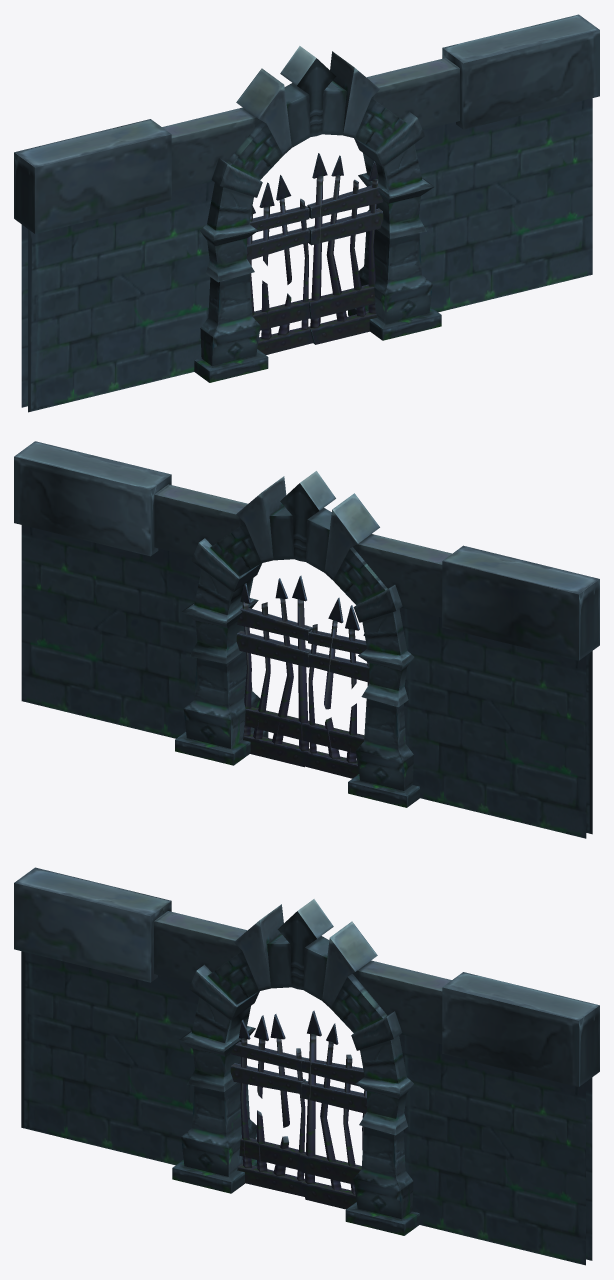
Rendered from jfdx_weiqiang_02.FBX.
The picture shows the model from 3 angles, top to bottom: view 1: azimuth 30°, elevation 25°; view 2: azimuth 150°, elevation 25°; view 3: azimuth 330°, elevation 25°; orthographic projection.
Parts seen in each view (by area): view 1: jfdx_weiqiang_02; view 2: jfdx_weiqiang_02; view 3: jfdx_weiqiang_02.
Boxes of the visible parts, bbox=[...] form: jfdx_weiqiang_02: bbox=[14, 14, 599, 412]; jfdx_weiqiang_02: bbox=[14, 441, 599, 838]; jfdx_weiqiang_02: bbox=[14, 867, 599, 1265].
Size of the model in its own units: 1191 by 587 by 127.
